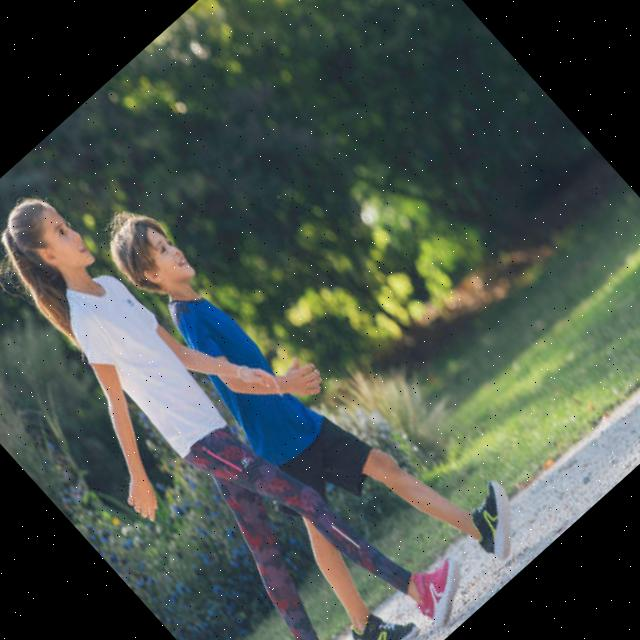Person: (42, 150, 543, 640), (0, 144, 482, 640)
